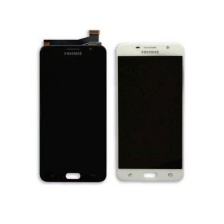phone: (115, 36, 187, 184), (38, 40, 110, 187)
